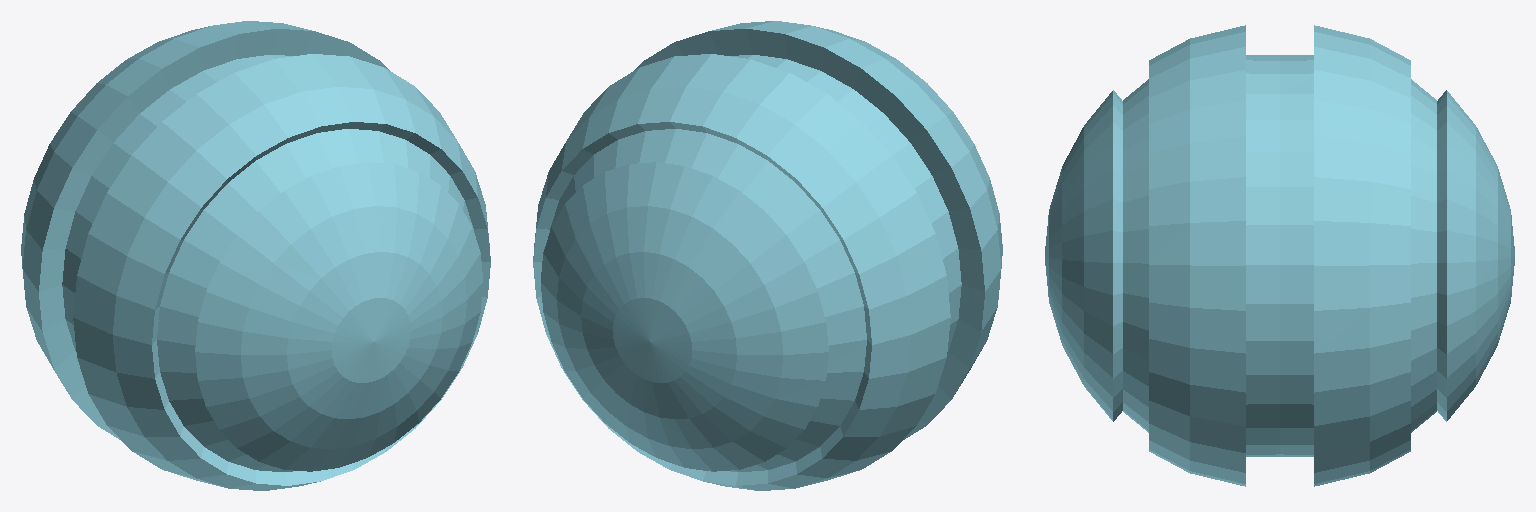
Rendered from turret1_ball.obj.
3 views of the same model, side by side, from view 1: azimuth 30°, elevation 25°; view 2: azimuth 150°, elevation 25°; view 3: azimuth 270°, elevation 25° (orthographic).
Visible parts, largest first — view 1: Sphere001; view 2: Sphere001; view 3: Sphere001.
Part boxes in pixels (x1,y1,x2,y2): Sphere001: (21, 21, 490, 490); Sphere001: (533, 21, 1002, 490); Sphere001: (1045, 25, 1514, 486).
Bounding box in the file's own units: 1.42 × 1.42 × 1.44.